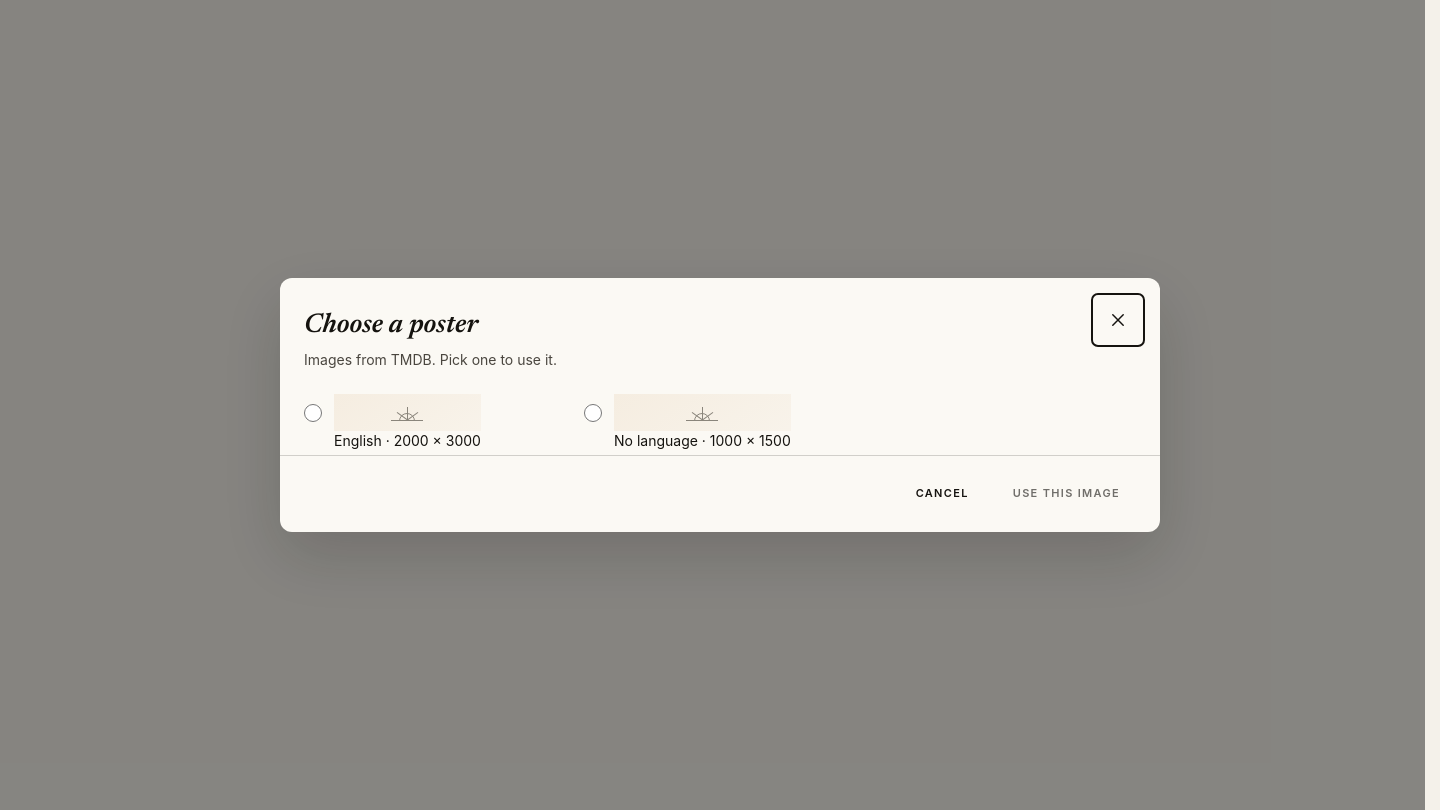
Test: CandidateDialog › a duplicate (409) says the image is already a backdrop instead of going stale
This screenshot has width=1440, height=810.
Click the radio button labelled "English · 2000 × 3000" at (313, 413), box left=304, top=404, right=322, bottom=422
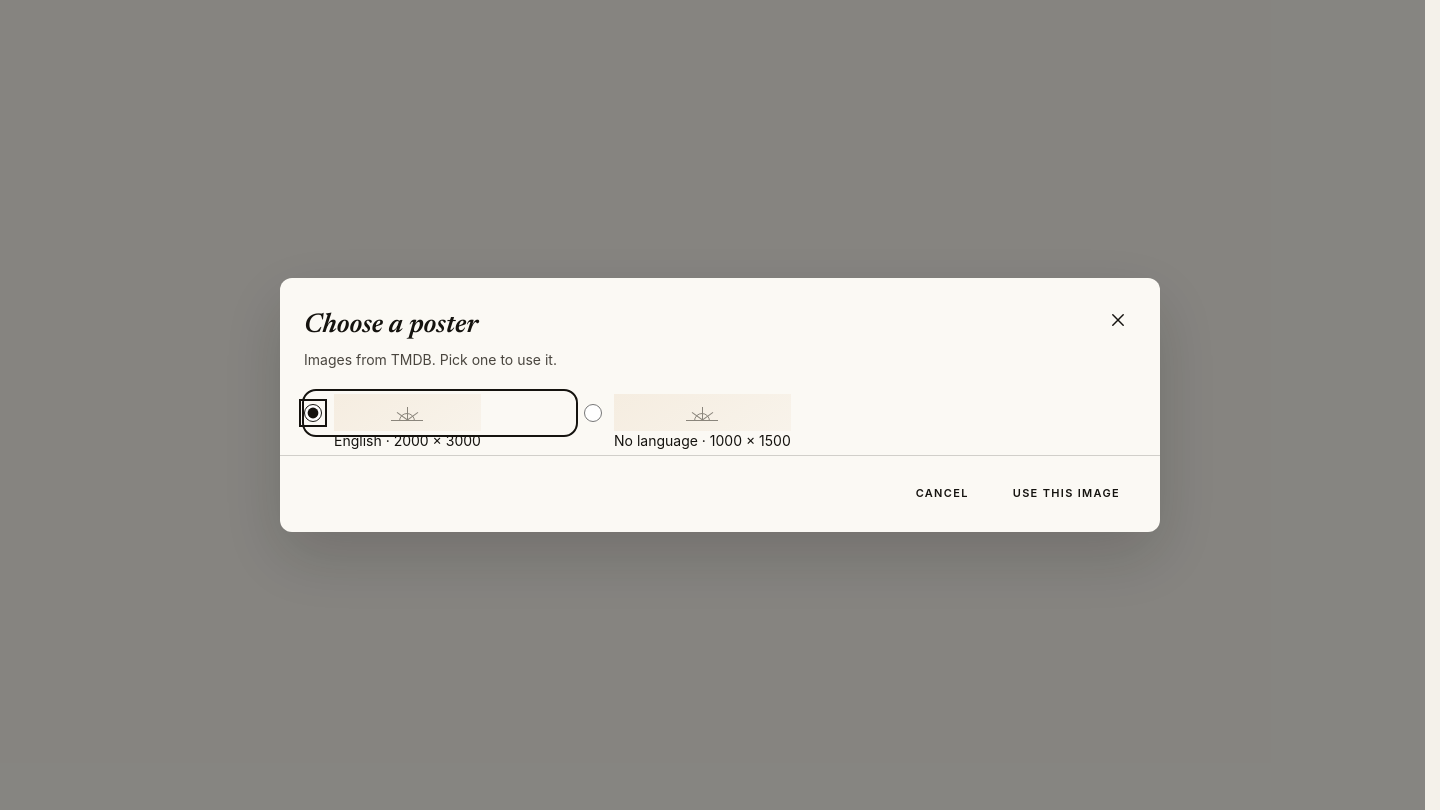
Click the button "Use this image" at (1066, 494), box left=997, top=472, right=1136, bottom=516
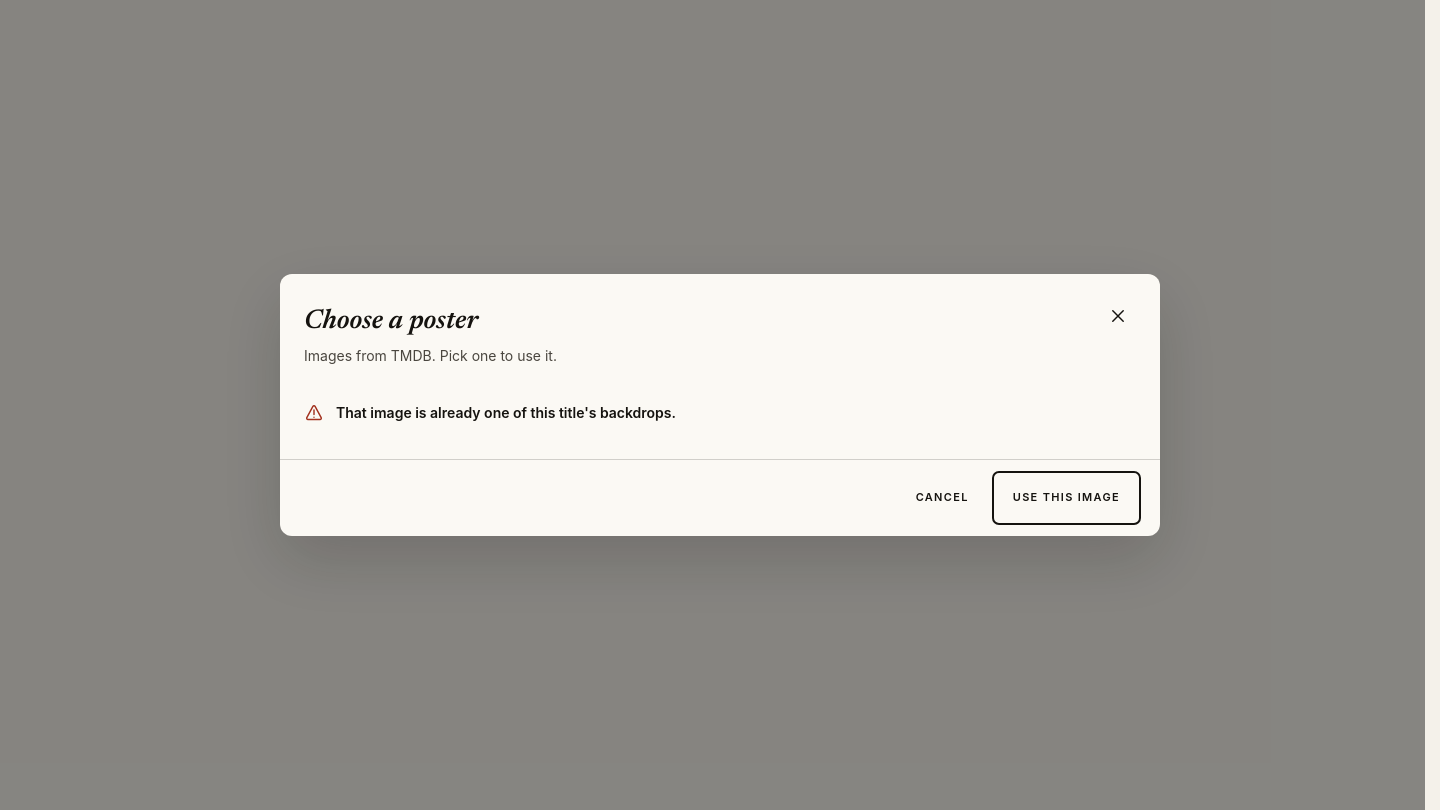
Expected: the text "That image is already one of this title's backdrops." is shown, left=336, top=402, right=676, bottom=423
